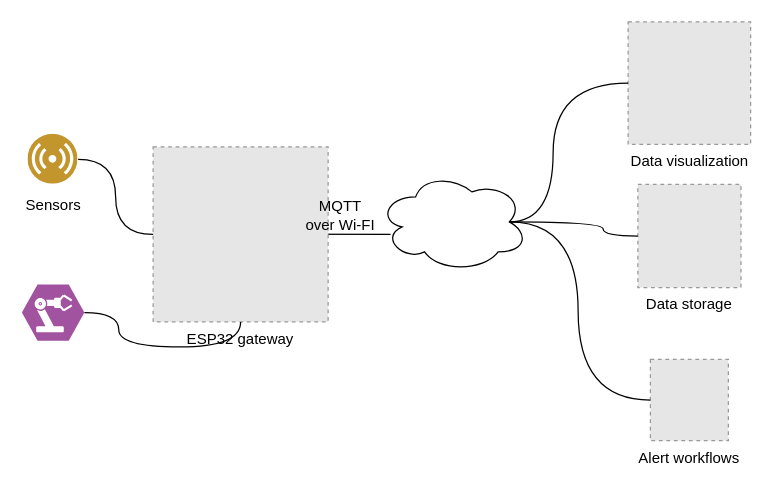
This 773x489 diagram has some shape labels left out. Grey dashed boxes stand in for pictures. Each missing label, with the centre of its shape:
"Actuators" belongs at [52,312].
"V-ONE Cloud" belongs at [452,221].
